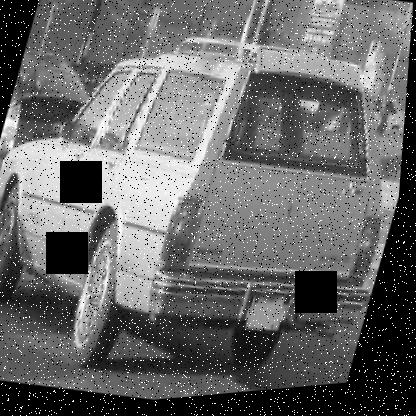not_emergency: (0, 0, 413, 407)
